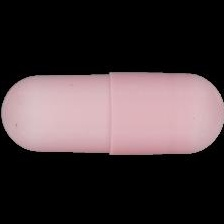54868-4248: (0, 0, 224, 224)
